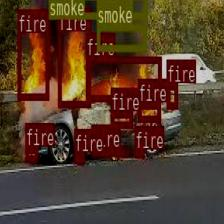fire: (86, 56, 161, 100), (58, 8, 90, 106), (17, 9, 48, 98), (137, 101, 161, 121), (110, 111, 132, 126), (166, 83, 176, 108), (91, 148, 126, 154), (25, 146, 37, 161), (74, 152, 84, 162), (134, 150, 144, 156)
smoke: (48, 0, 146, 17), (96, 24, 145, 50)
